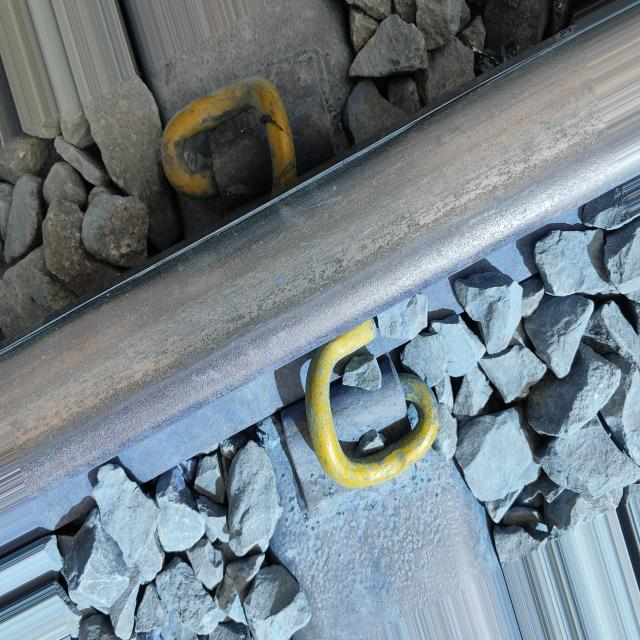Good Fasteners: (147, 0, 353, 235), (282, 320, 438, 527)
